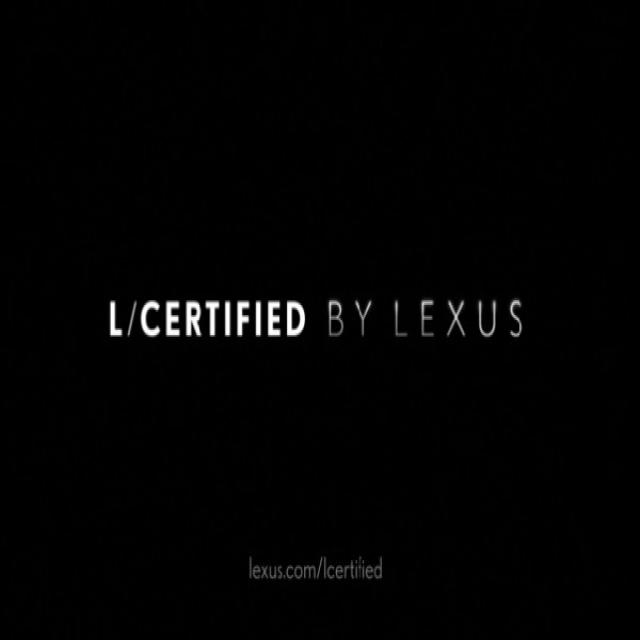Background Image: (1, 1, 637, 636)
Testimonial Quotes: (106, 292, 524, 343)
Text Elements: (325, 293, 523, 340), (246, 552, 383, 583)
